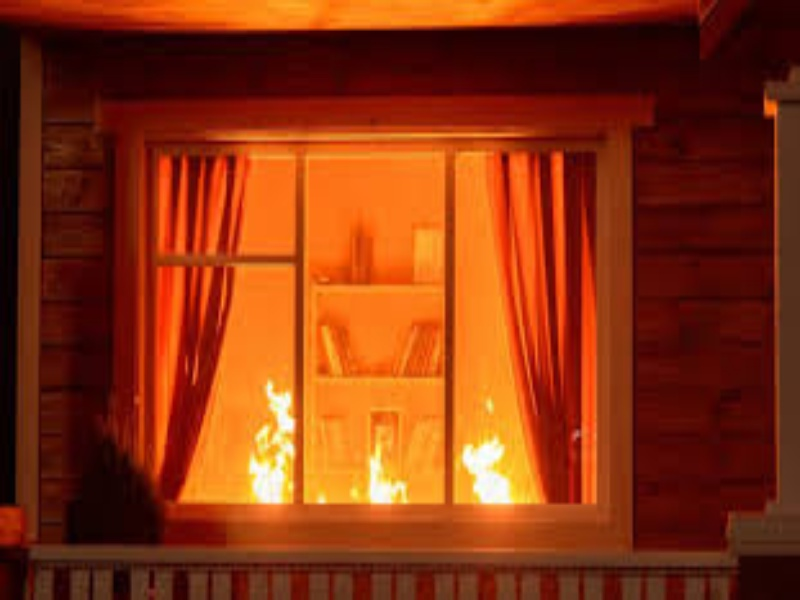fire: (223, 369, 533, 508)
